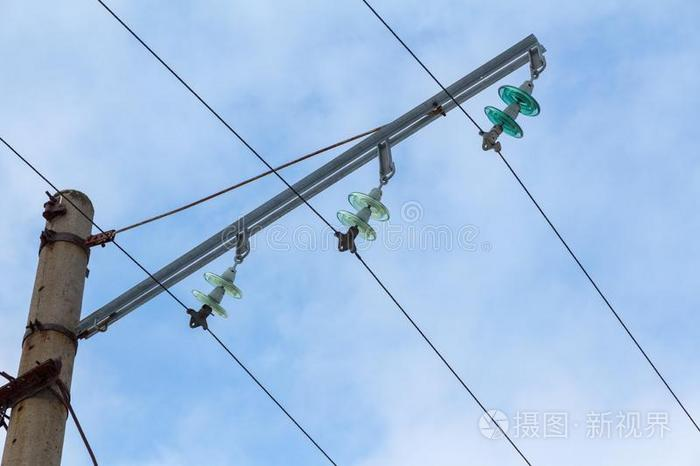insulator: (484, 83, 542, 139), (337, 187, 391, 239), (192, 272, 243, 318)
